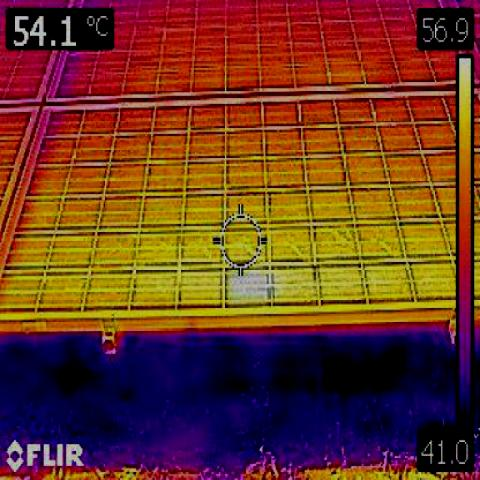fault: (225, 272, 265, 303)
